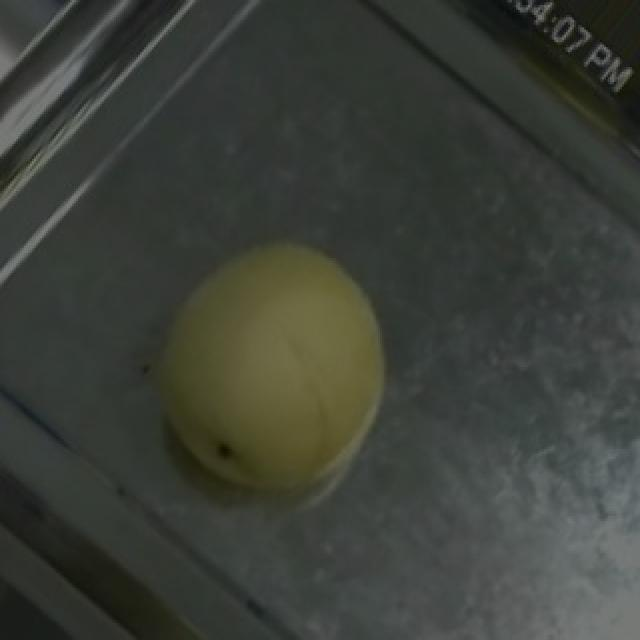Fruit: (112, 196, 436, 551)
